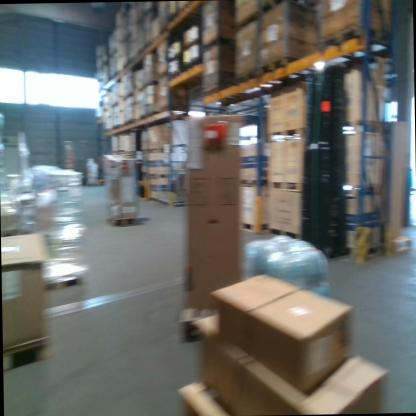pallet: (320, 24, 395, 62), (174, 378, 229, 416), (2, 336, 52, 375), (175, 305, 219, 344), (38, 264, 88, 293), (257, 54, 305, 78), (341, 117, 382, 137), (264, 126, 309, 143), (261, 0, 313, 14), (345, 242, 385, 259), (233, 10, 262, 33), (200, 35, 234, 54), (342, 182, 381, 198), (266, 223, 302, 240), (267, 178, 303, 194), (106, 213, 140, 228), (232, 68, 257, 87), (391, 233, 412, 254), (237, 220, 268, 234), (202, 83, 227, 100), (148, 142, 171, 158), (181, 56, 202, 72), (182, 39, 200, 57), (239, 177, 267, 188), (146, 171, 172, 181), (166, 51, 182, 64), (167, 67, 180, 81), (176, 0, 190, 13)
